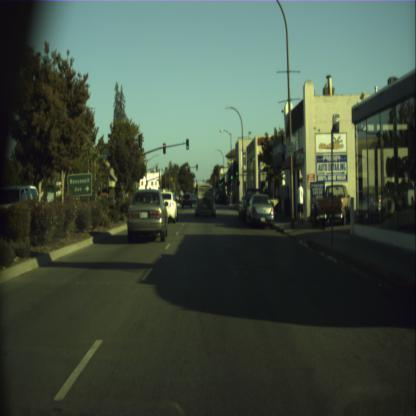Green: (235, 164, 238, 176), (186, 138, 189, 149), (230, 170, 232, 180), (196, 163, 198, 170), (221, 180, 223, 184), (219, 180, 220, 186)
RedLeft: (162, 142, 166, 154), (188, 165, 190, 170)
